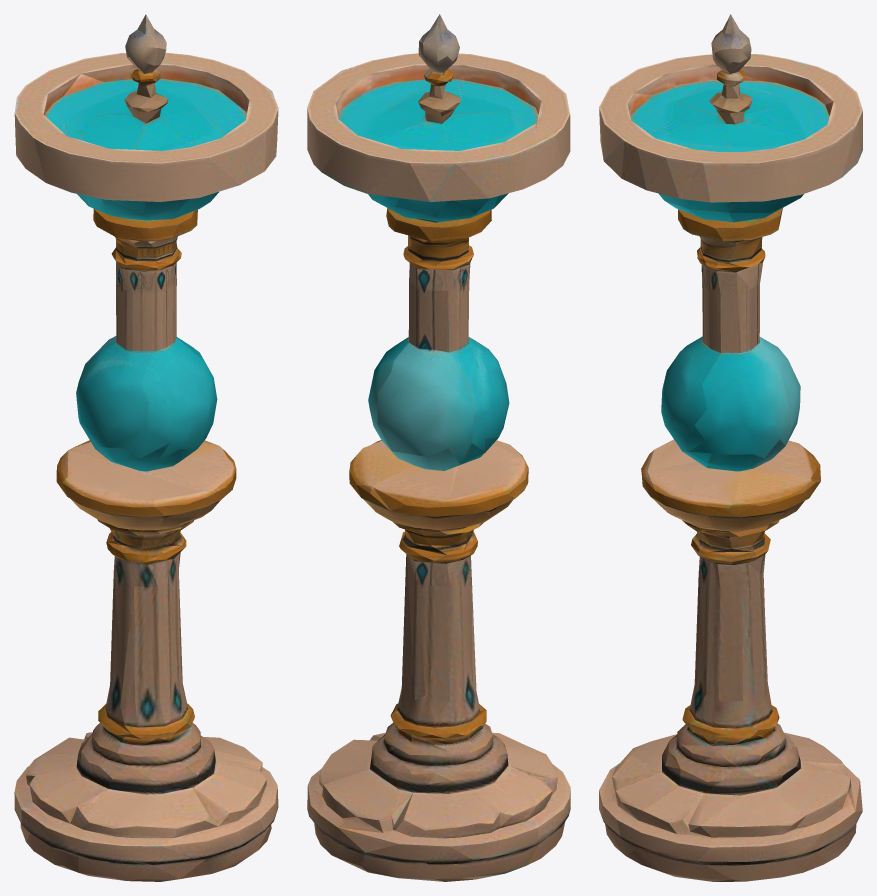
Rendered from deco_lampadaire.glb.
3 renders of one model, left to right at view 1: azimuth 30°, elevation 25°; view 2: azimuth 150°, elevation 25°; view 3: azimuth 270°, elevation 25°, orthographic.
Parts seen in each view (by area): view 1: mesh_node; view 2: mesh_node; view 3: mesh_node.
Boxes of the visible parts, box(x1,y1,x2,y2) form: mesh_node: box(14, 14, 278, 881); mesh_node: box(307, 14, 570, 881); mesh_node: box(599, 14, 862, 881).
Size of the model in its own units: 0.5558 by 1.9 by 0.5554.
1 material, 1 textured.
